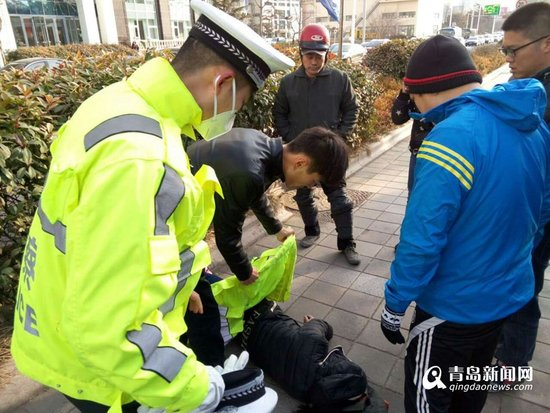fall: (224, 288, 382, 413)
